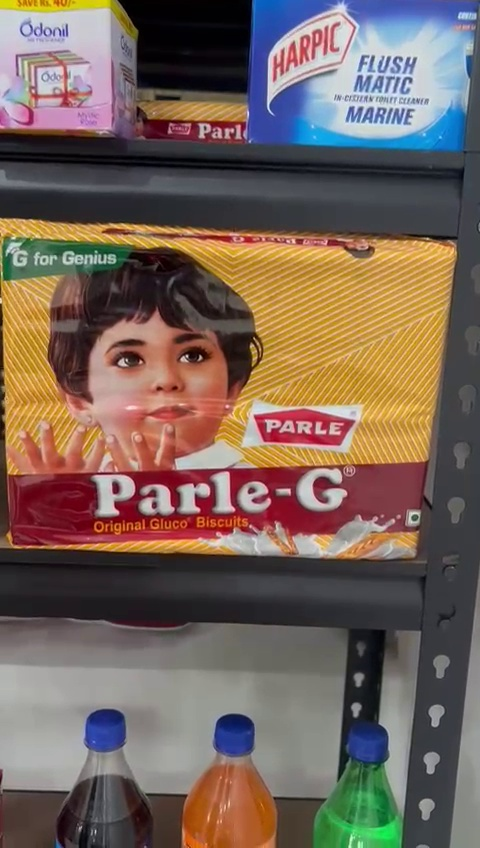Parle-G: (2, 218, 430, 558)
